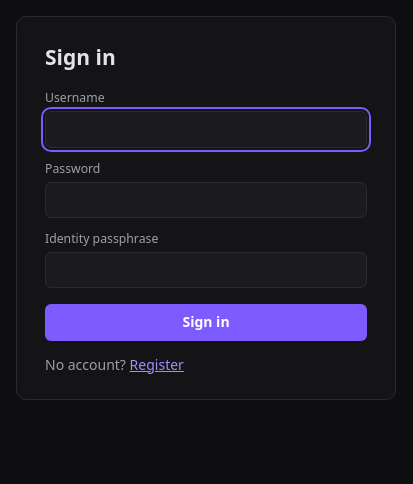
Test case: test_web_login_form_renders_curated_error_without_leaking_raw_message › shows server-unavailable copy on 503 without echoing the server detail
In the field labelled "Username": (206, 130) [45,111,367,148], type "alice"
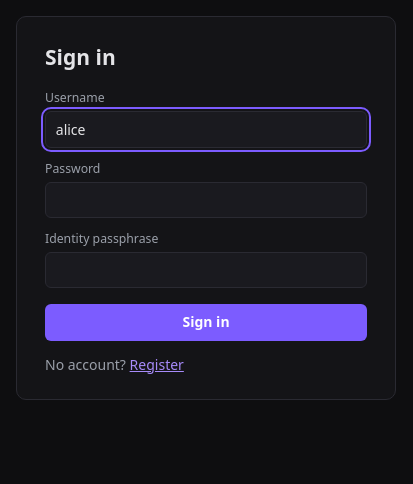
In the password field labelled "Password": (206, 200) [45,182,367,218], type "passw0rd-placeholder"
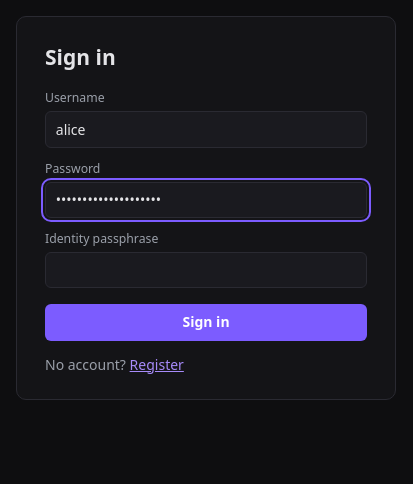
Click the button "Sign in": (206, 322) [45,304,367,341]
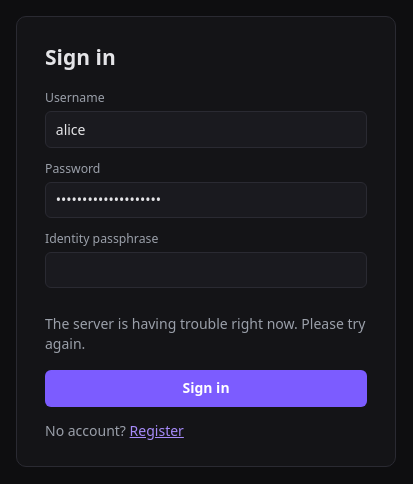
Expected: the message does not show "db-pool-internal-trace-77", [45,314,367,355]
Now the message shows "server is having trouble", box [45,314,365,353]
